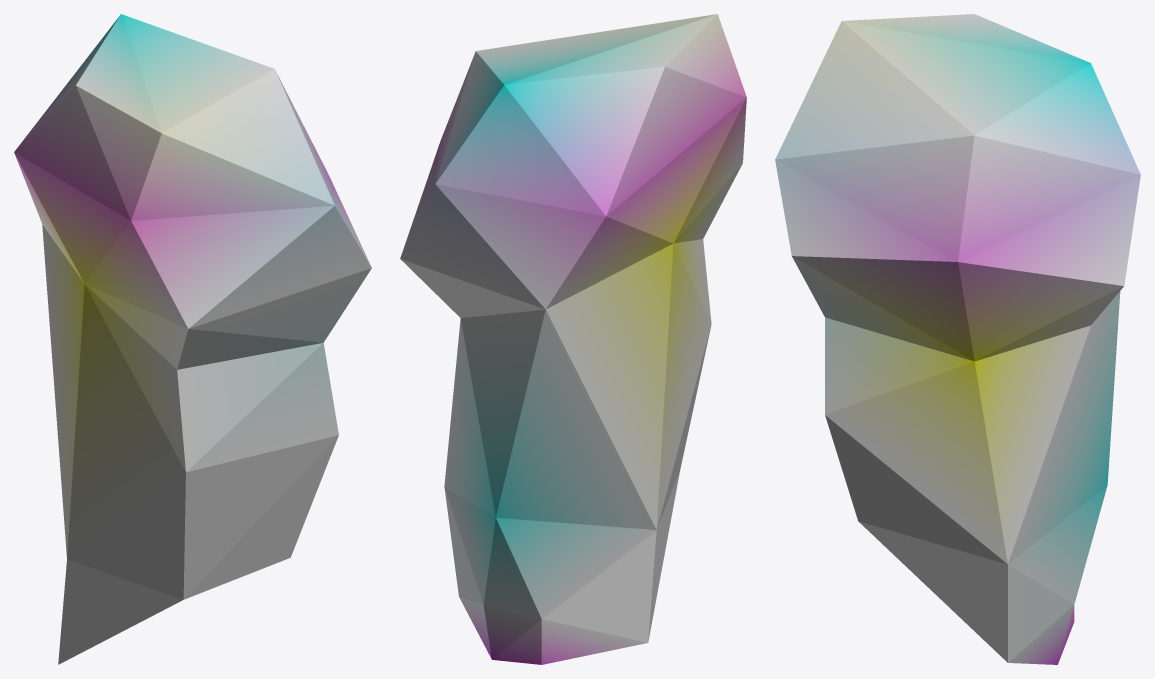
3 views of the same model, side by side, from view 1: azimuth 30°, elevation 25°; view 2: azimuth 150°, elevation 25°; view 3: azimuth 270°, elevation 25° (orthographic). The views are drawn at different scales.
Visible parts, largest first — view 1: model_1123; view 2: model_1123; view 3: model_1123.
Part boxes in pixels (left/top/right/bottom): model_1123: left=14, top=14, right=371, bottom=664; model_1123: left=400, top=14, right=746, bottom=664; model_1123: left=775, top=14, right=1140, bottom=664.
Size of the model in its own units: 17 by 39 by 22.
